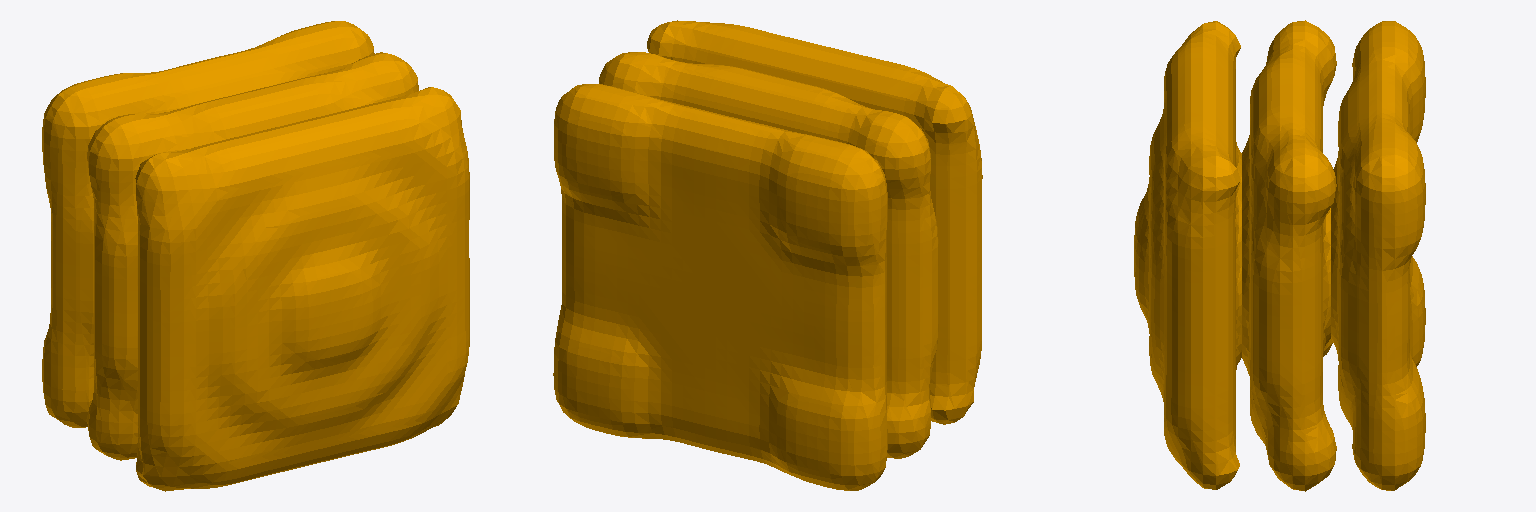
The robot description file, URDF, robot "O07_2":
<?xml version="1.0"?>
<robot name="O07_2">
  <link name="base_link">
    <visual>
      <geometry>
        <mesh filename="../../../../meshes/egad/train/O07_2.obj" />
      </geometry>
    </visual>
  </link>
</robot>

--- What the picture shows (computed from the rendered views, not written in the file) ---
Views: 3 orthographic renders of the robot side by side, from view 1: azimuth 30°, elevation 25°; view 2: azimuth 150°, elevation 25°; view 3: azimuth 270°, elevation 25°.
Model O07_2 with 1 links and 0 joints (none), rooted at base_link, posed all joints at 0.
Visible links, largest first — view 1: base_link; view 2: base_link; view 3: base_link.
Link boxes in pixels (box(x1,y1,x2,y2)): base_link: box(42, 21, 469, 491); base_link: box(553, 20, 982, 490); base_link: box(1134, 20, 1425, 491).
Size in the robot's own frame: 0.075 by 0.0585 by 0.075 metres.
1 mesh visuals loaded from 1 distinct referenced files (1 OBJ).